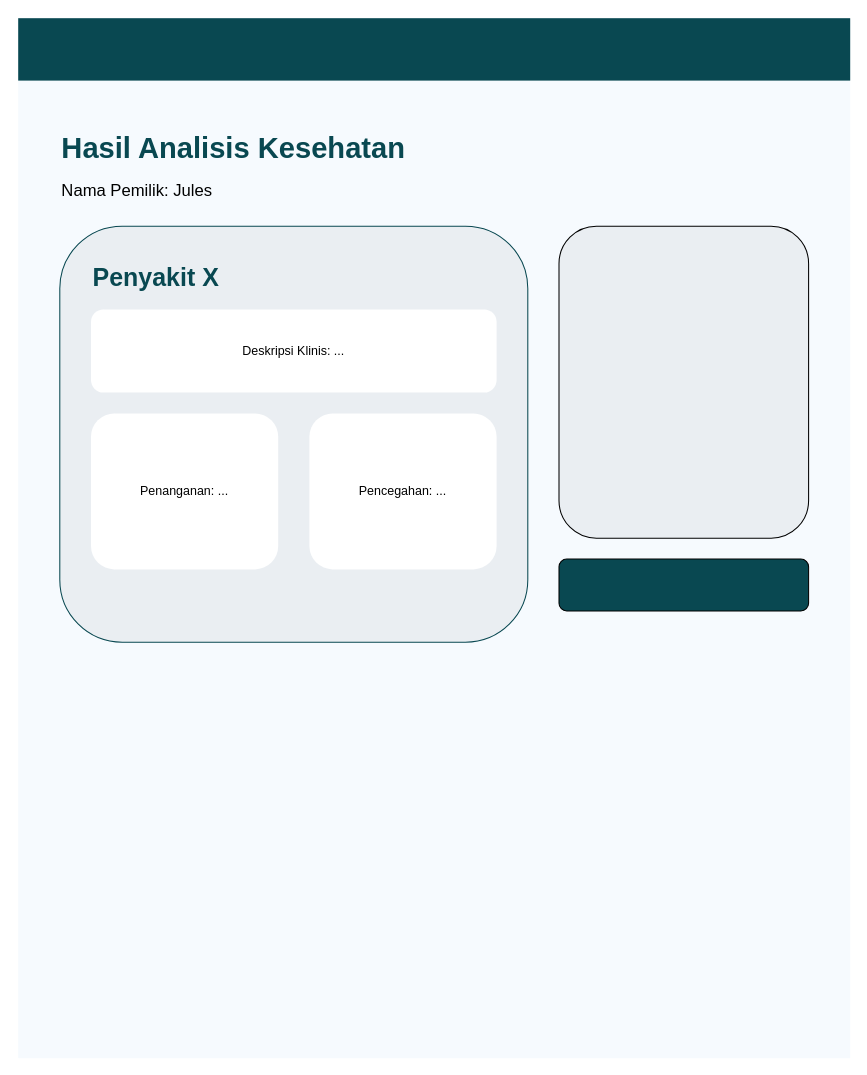
The diagram is 867 pixels wide and 1075 high, and some of its shapes have lost their labels. The shapes that lost their labels are listed below. From the top down, each one's box as (x1, y1, x2, y2) in pixels, then its label:
(558, 225, 809, 538): Ringkasan Gejala: [G01, G05]
(558, 558, 809, 611): Diagnosa Ulang
